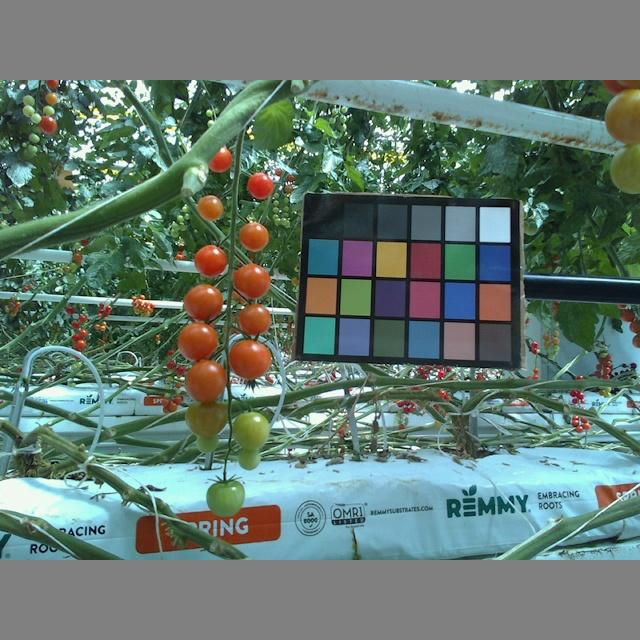green: (606, 142, 640, 198), (206, 477, 245, 518), (183, 403, 230, 434), (234, 409, 270, 447), (240, 447, 261, 471), (194, 438, 221, 454)
pink: (603, 88, 640, 144), (178, 320, 223, 363), (183, 361, 228, 403), (184, 284, 224, 320), (232, 340, 270, 377), (234, 264, 271, 300), (238, 302, 271, 337), (196, 244, 227, 278), (239, 223, 267, 250), (246, 171, 275, 197), (197, 196, 223, 221), (208, 148, 234, 171)
